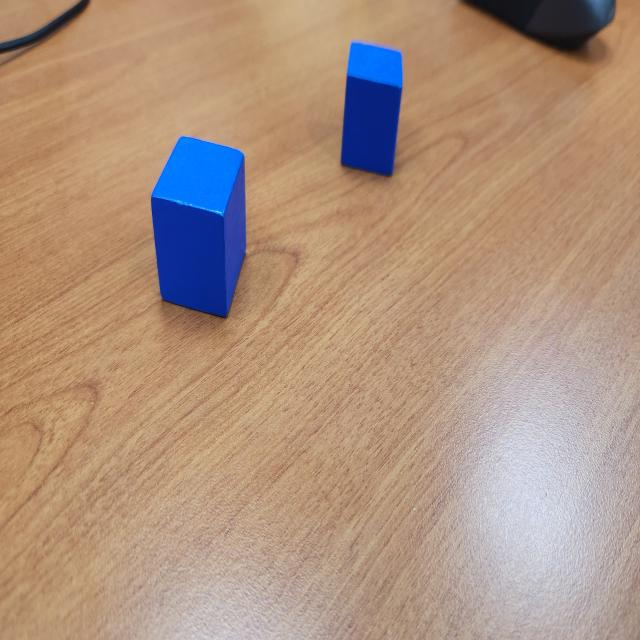blue: (150, 135, 246, 318), (341, 41, 404, 177)
